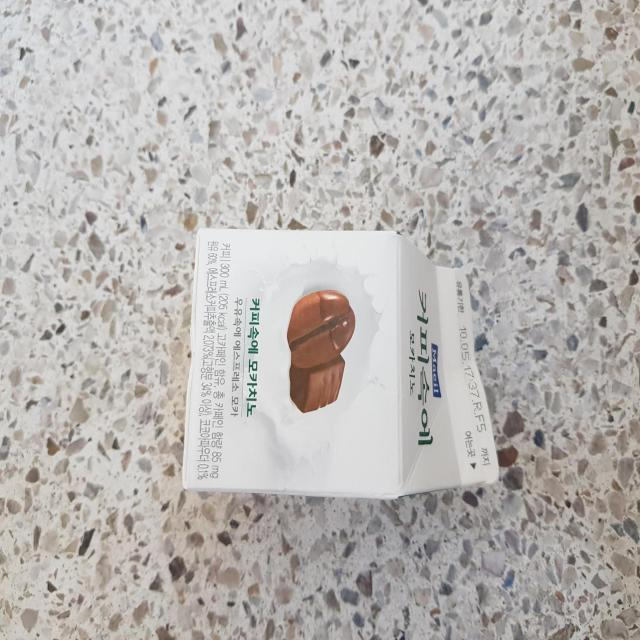paperpack: (182, 228, 499, 499)
